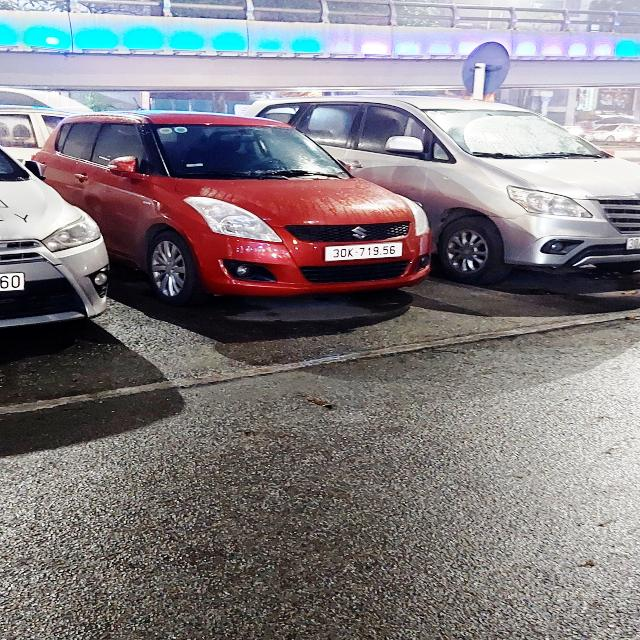license_plate: (324, 242, 404, 264)
